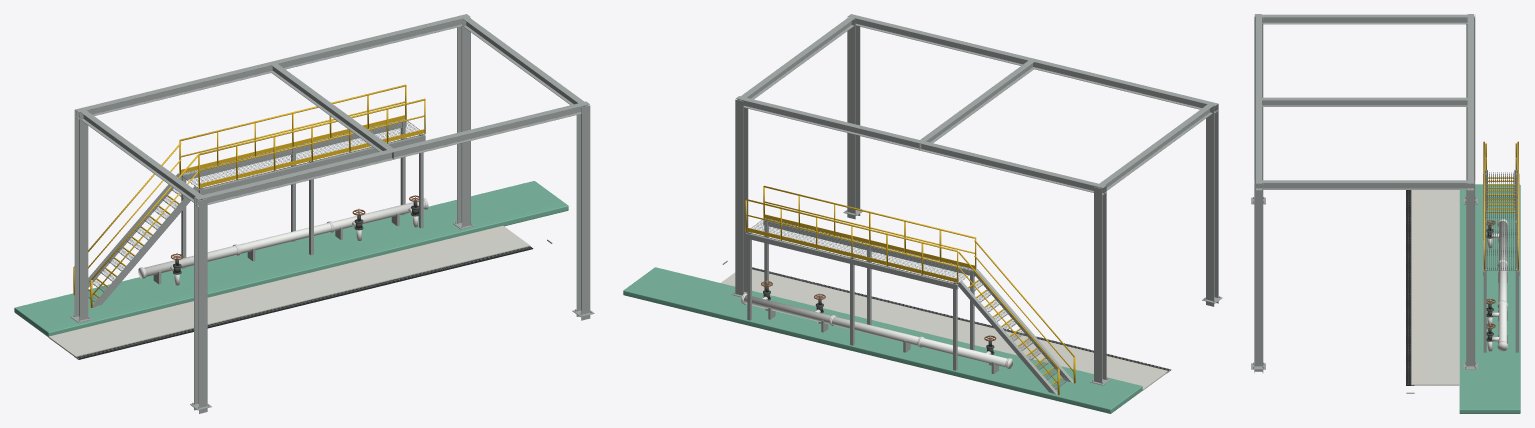
Rendered from bay.glb.
3 views of the same model, side by side, from view 1: azimuth 30°, elevation 25°; view 2: azimuth 150°, elevation 25°; view 3: azimuth 270°, elevation 25° (orthographic). The views are drawn at different scales.
Parts seen in each view (by area): view 1: bay_static, bay_lite; view 2: bay_static, bay_lite; view 3: bay_static, bay_lite.
Part boxes in pixels (x1,y1,x2,y2): bay_static: [49, 14, 594, 413]; bay_lite: [14, 85, 568, 356]; bay_static: [721, 14, 1222, 394]; bay_lite: [623, 187, 1166, 413]; bay_static: [1251, 14, 1519, 393]; bay_lite: [1411, 143, 1520, 413].
Bounding box in the file's own units: 16.61 × 6.59 × 8.38.
Materials: 10 (1 with a texture image).
